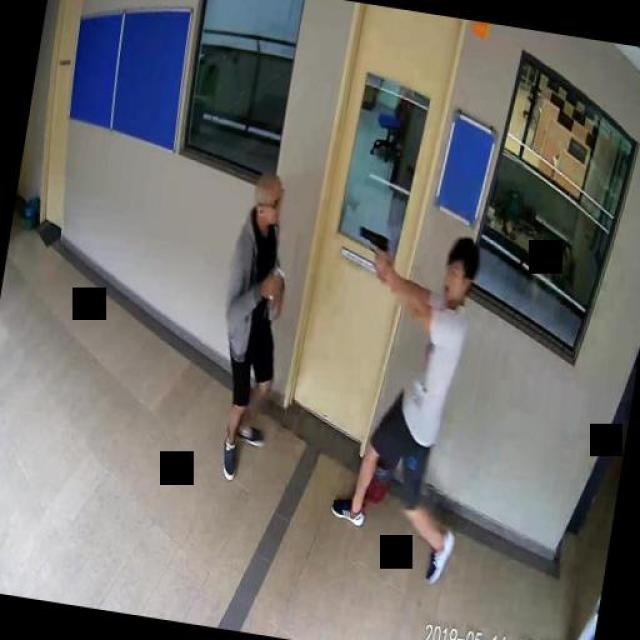gun: (352, 221, 392, 269)
